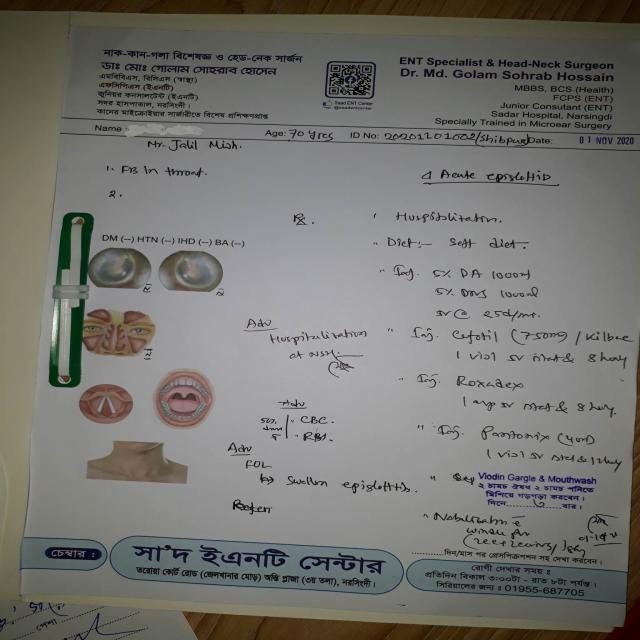Cefotil: (448, 325, 500, 349)
DA: (455, 264, 489, 283)
DNS: (457, 286, 491, 303)
Pantonix: (476, 420, 552, 448)
Roxadex: (448, 367, 530, 396)
